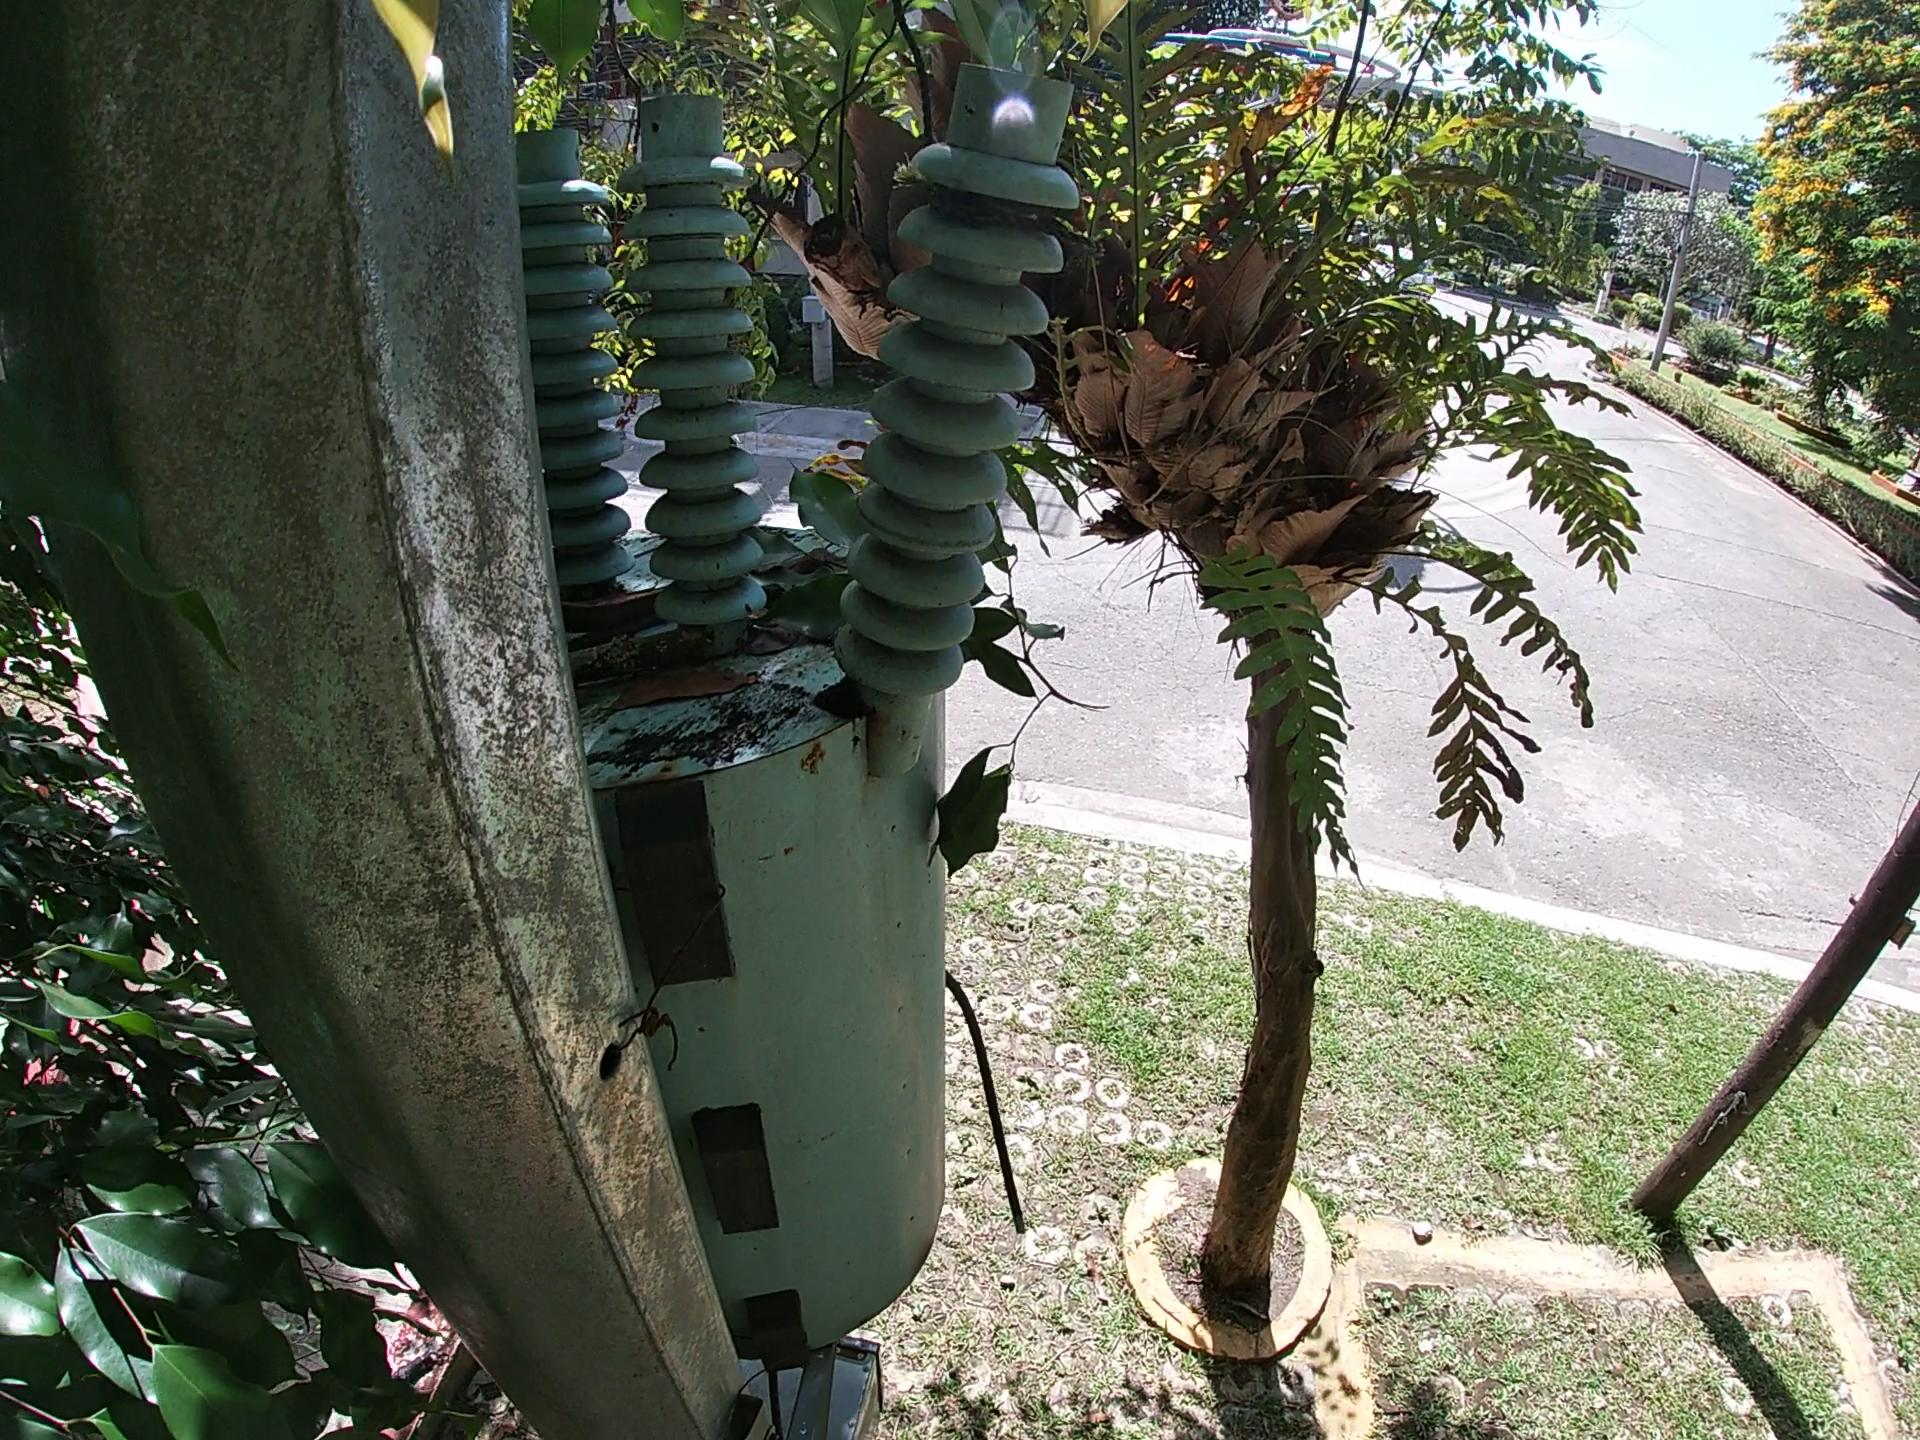branch with leaves: (927, 469, 1117, 967)
leaf: (754, 443, 869, 659), (603, 672, 748, 703)
mahogany fruit: (550, 579, 677, 628)
tree branch: (559, 634, 703, 656)
